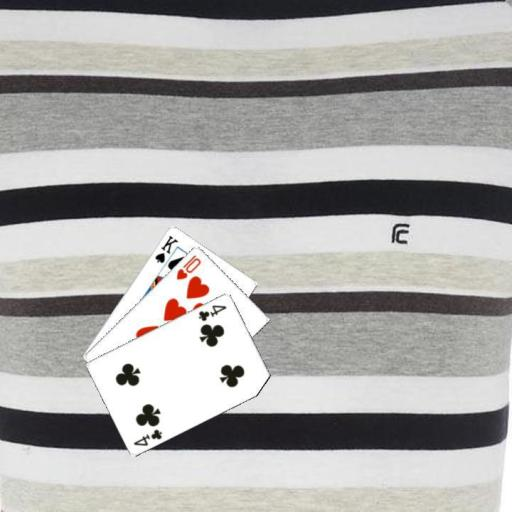10H: (173, 252, 203, 281)
4C: (130, 426, 164, 447), (196, 302, 228, 322)
KS: (152, 232, 179, 264)
